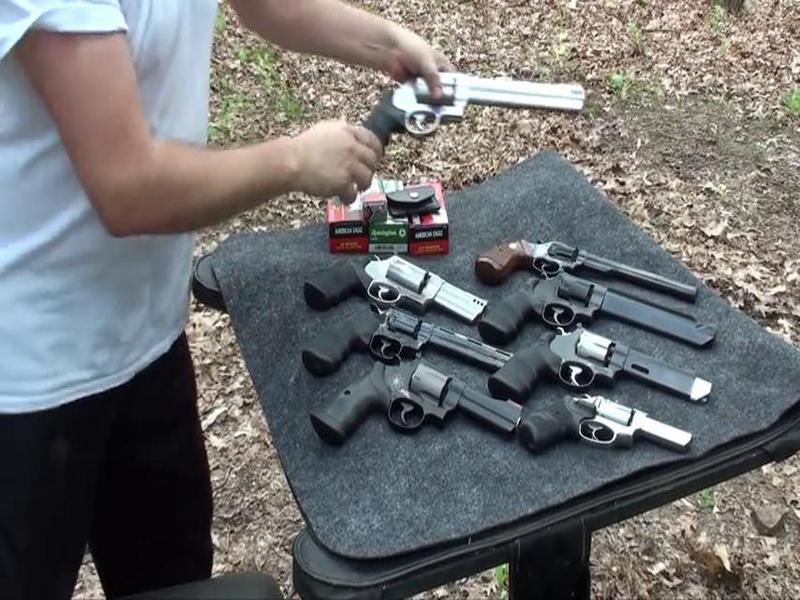Revolver: (338, 44, 556, 170)
